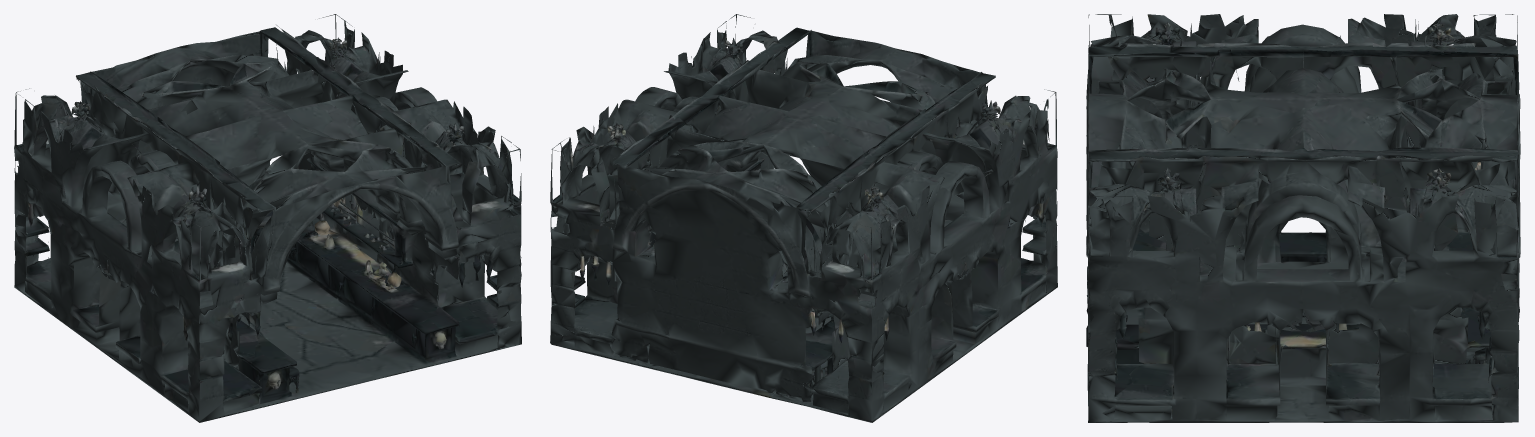
File: crypt-bar.glb
3 renders of one model, left to right at view 1: azimuth 30°, elevation 25°; view 2: azimuth 150°, elevation 25°; view 3: azimuth 270°, elevation 25°, orthographic. The views are drawn at different scales.
Size of the model in its own units: 1.9 by 1.15 by 1.9.
1 material, 1 textured.
